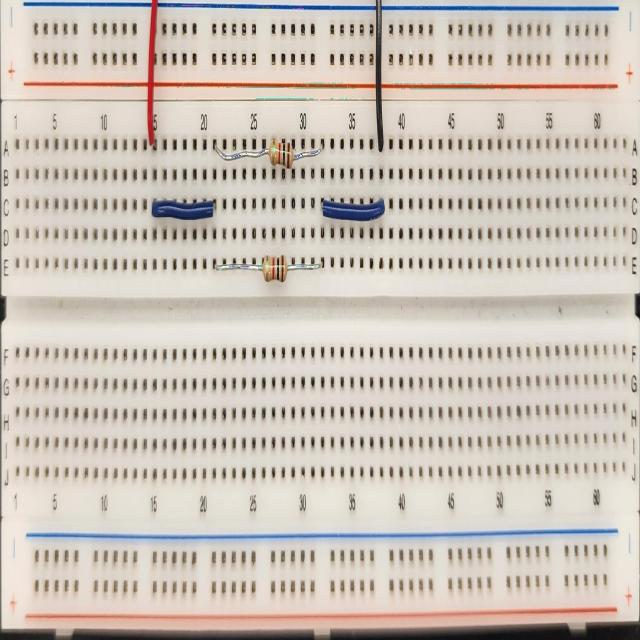Resistor: (215, 254, 324, 284), (215, 140, 321, 170)
